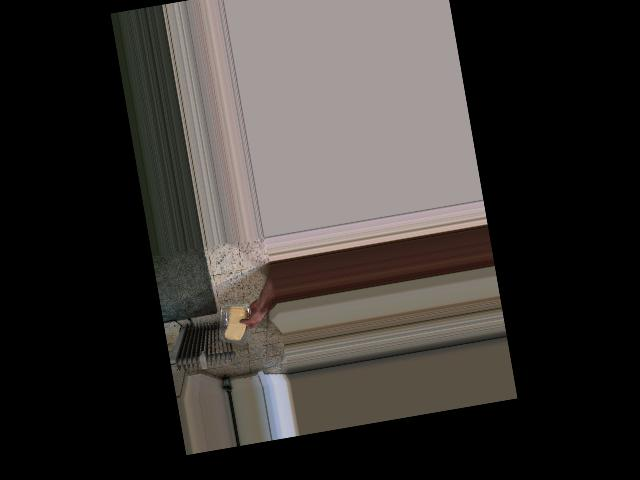cheese: (218, 301, 254, 346)
